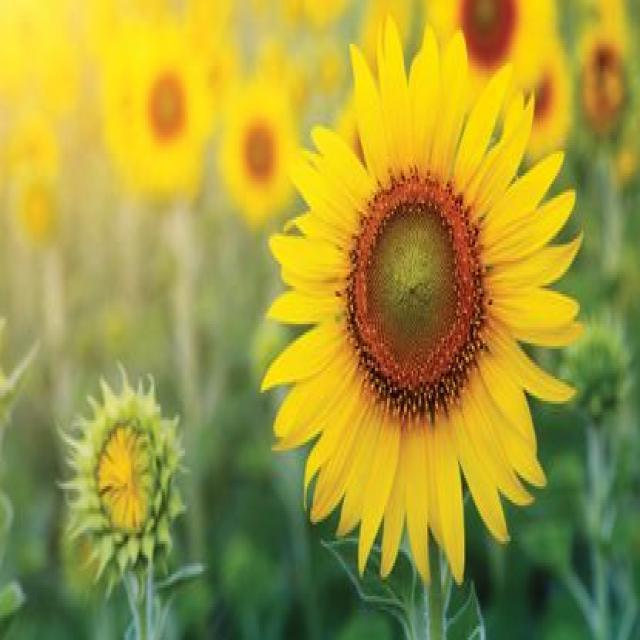sunflower: (260, 17, 584, 586), (100, 13, 214, 204), (426, 0, 544, 102), (219, 76, 298, 222), (501, 26, 573, 156), (576, 0, 627, 126), (195, 20, 245, 119)
